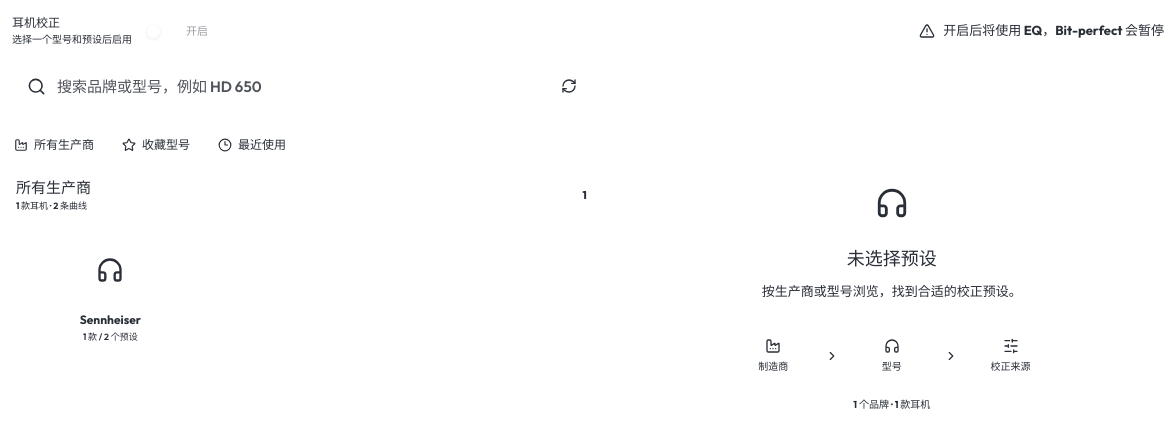
HeadphoneCorrectionPanel › lists manufacturers first, then opens the selected manufacturer models
Click the button "Sennheiser 1 款 / 2 个预设" at x=110, y=289, box [16,222,205,355]
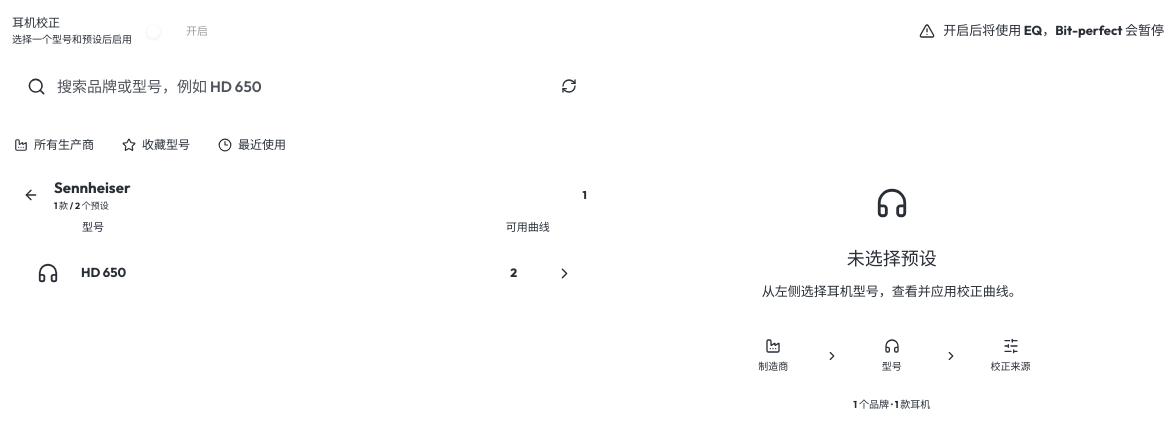
Expected: the text "HD 650" is shown, [81,264,126,280]
